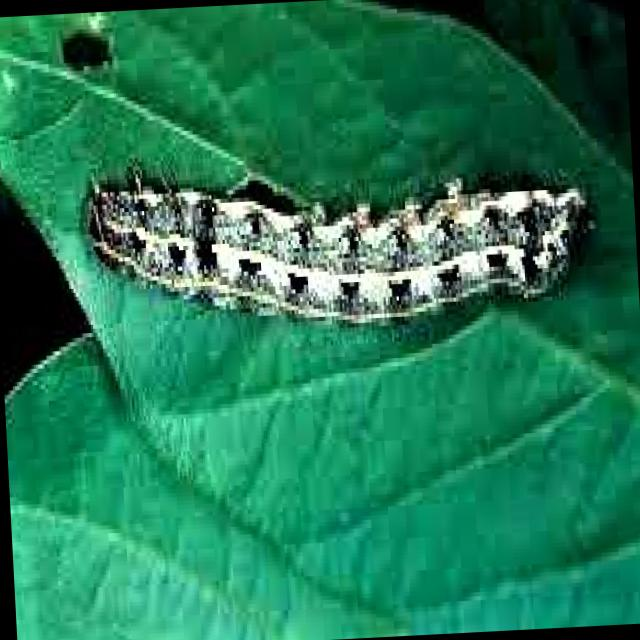Armyworm: (62, 116, 627, 371)
Armyworm_damage: (47, 11, 128, 95)
